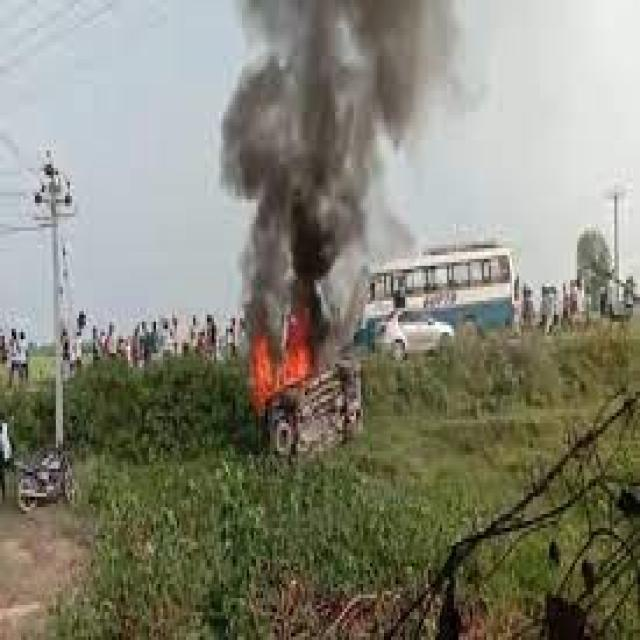Fire: (246, 306, 318, 396)
Smoke: (220, 0, 470, 139), (225, 144, 378, 302)
